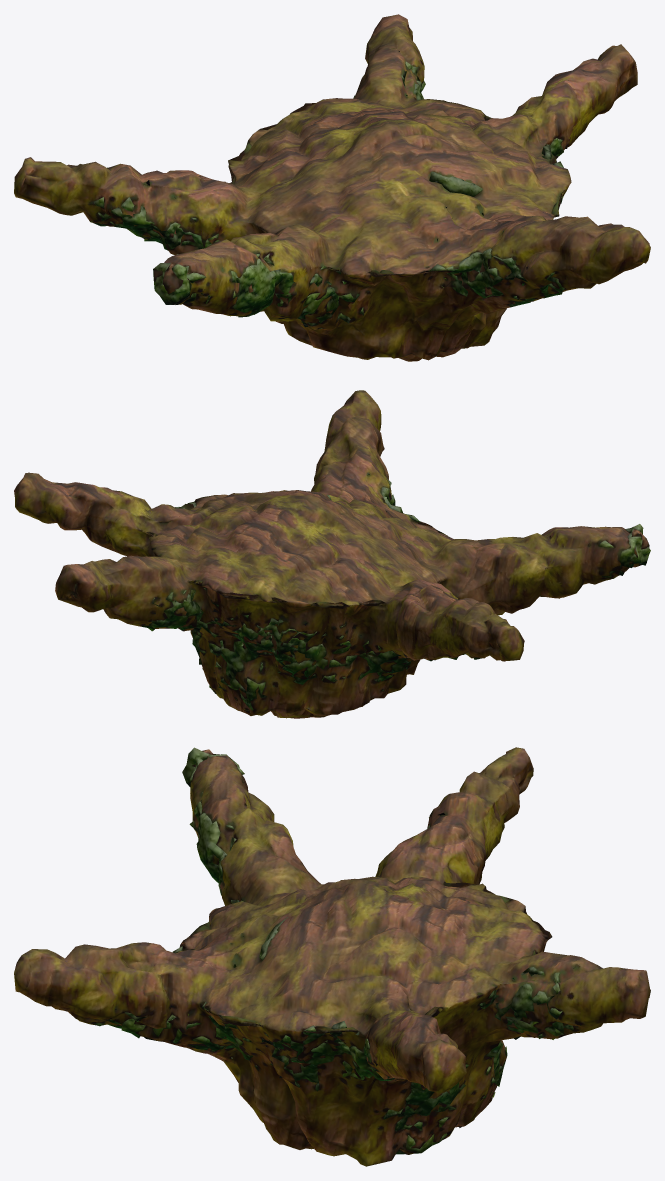
The model's file is rtree_stump.glb.
3 views of the same model, one above another, from view 1: azimuth 30°, elevation 25°; view 2: azimuth 150°, elevation 25°; view 3: azimuth 270°, elevation 25° (orthographic). The views are drawn at different scales.
Visible parts, largest first — view 1: bark, moss; view 2: bark, moss; view 3: bark, moss.
Boxes of the visible parts, <box> form: bark: <box>14,14,650,361</box>; moss: <box>90,51,567,328</box>; bark: <box>14,390,649,718</box>; moss: <box>141,474,650,710</box>; bark: <box>14,747,650,1166</box>; moss: <box>93,747,580,1154</box>.
Size of the model in its own units: 0.9705 by 0.3658 by 0.8334.
Materials: 2 (2 with a texture image).
